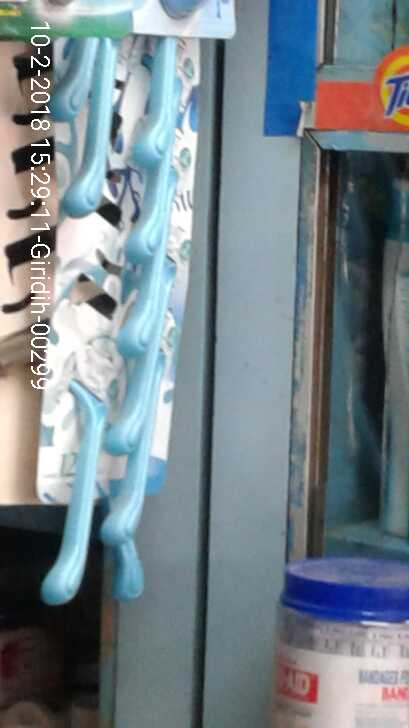venus: (40, 23, 182, 604)
